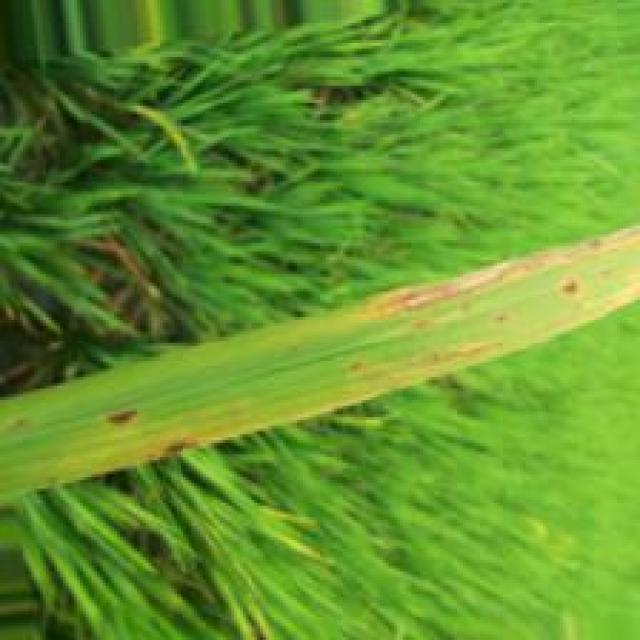Leaf_Blast: (357, 223, 640, 324)
